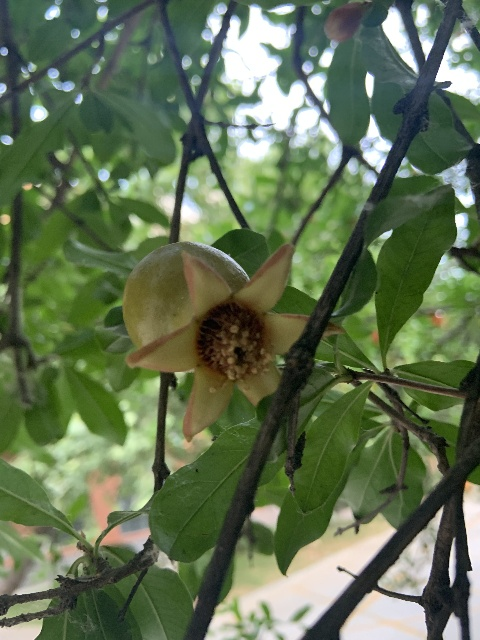bud: (325, 1, 364, 42)
mid-growth: (122, 239, 308, 442)
